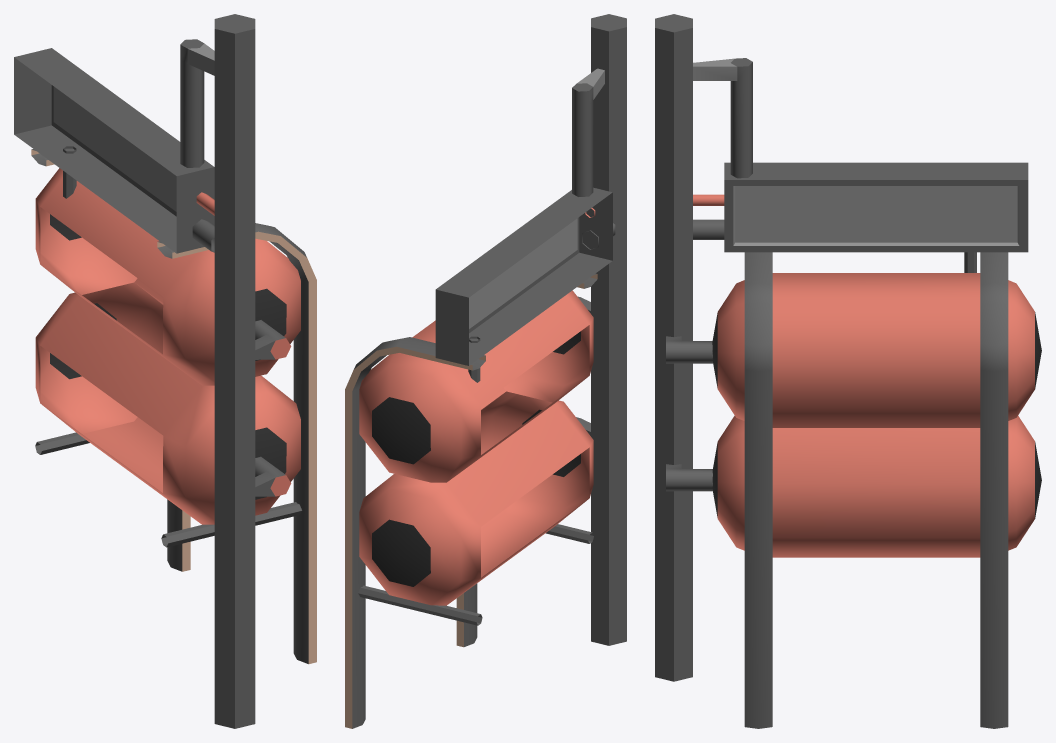
Rendered from Building_Gas_Canister.fbx.
3 renders of one model, left to right at view 1: azimuth 30°, elevation 25°; view 2: azimuth 150°, elevation 25°; view 3: azimuth 270°, elevation 25°, orthographic. The views are drawn at different scales.
Visible parts, largest first — view 1: Building_Gas_Canister; view 2: Building_Gas_Canister; view 3: Building_Gas_Canister.
Boxes of the visible parts, bbox=[...] form: Building_Gas_Canister: bbox=[14, 14, 316, 728]; Building_Gas_Canister: bbox=[345, 14, 626, 728]; Building_Gas_Canister: bbox=[655, 14, 1041, 728].
Size of the model in its own units: 70.99 by 304 by 164.
